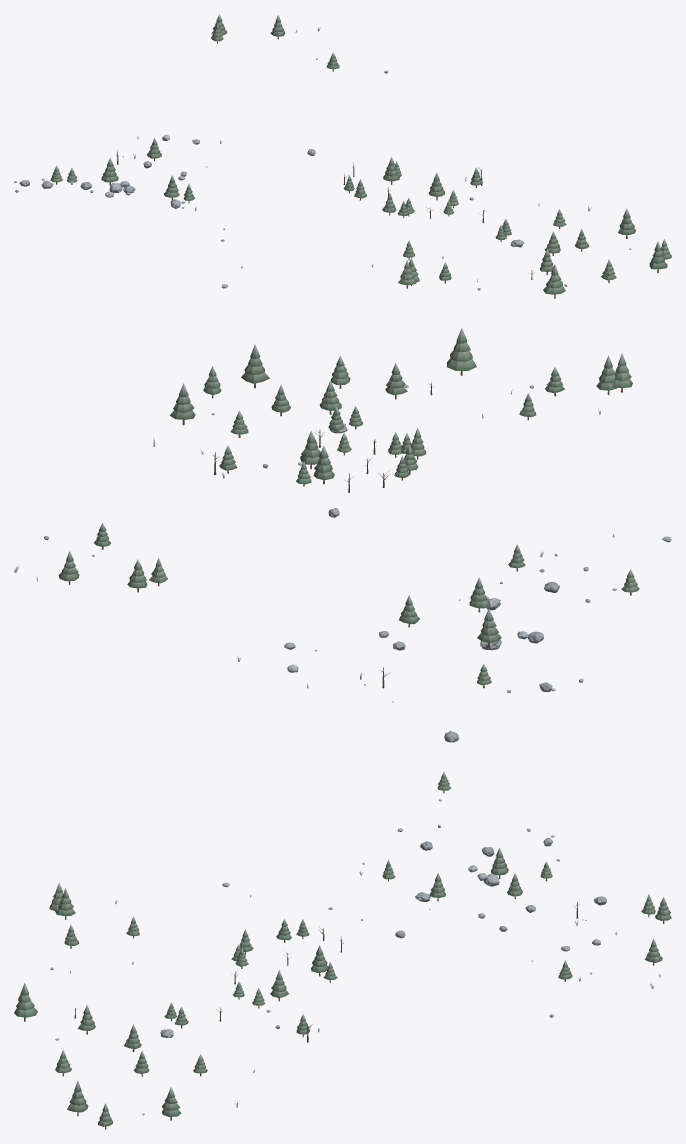
Rendered from frost_land_scatter_c17_09.glb.
The picture shows the model from 3 angles, top to bottom: view 1: azimuth 30°, elevation 25°; view 2: azimuth 150°, elevation 25°; view 3: azimuth 270°, elevation 25°; orthographic projection. The views are drawn at different scales.
Visible parts, largest first — view 1: frost_land_scatter_c17_09; view 2: frost_land_scatter_c17_09; view 3: frost_land_scatter_c17_09.
Boxes of the visible parts, left/top/right/bottom form: frost_land_scatter_c17_09: left=14, top=14, right=671, bottom=298; frost_land_scatter_c17_09: left=14, top=327, right=671, bottom=742; frost_land_scatter_c17_09: left=14, top=772, right=671, bottom=1129.
Bounding box in the file's own units: 240 × 55.32 × 261.
